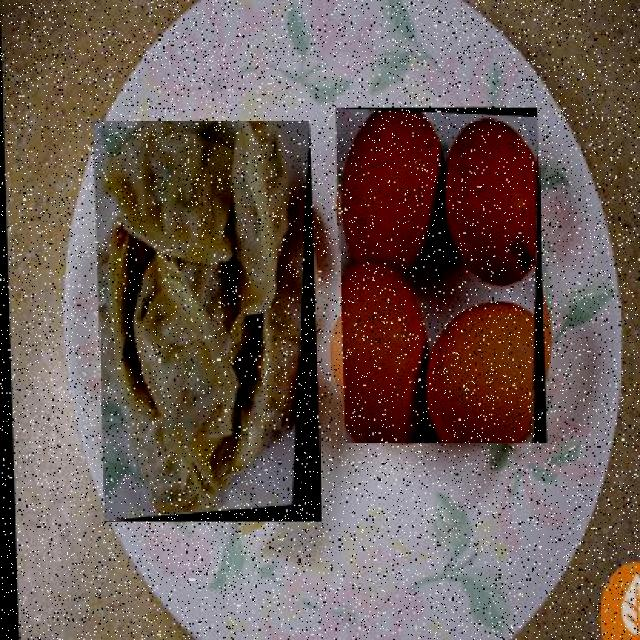Egg: (336, 108, 546, 444)
